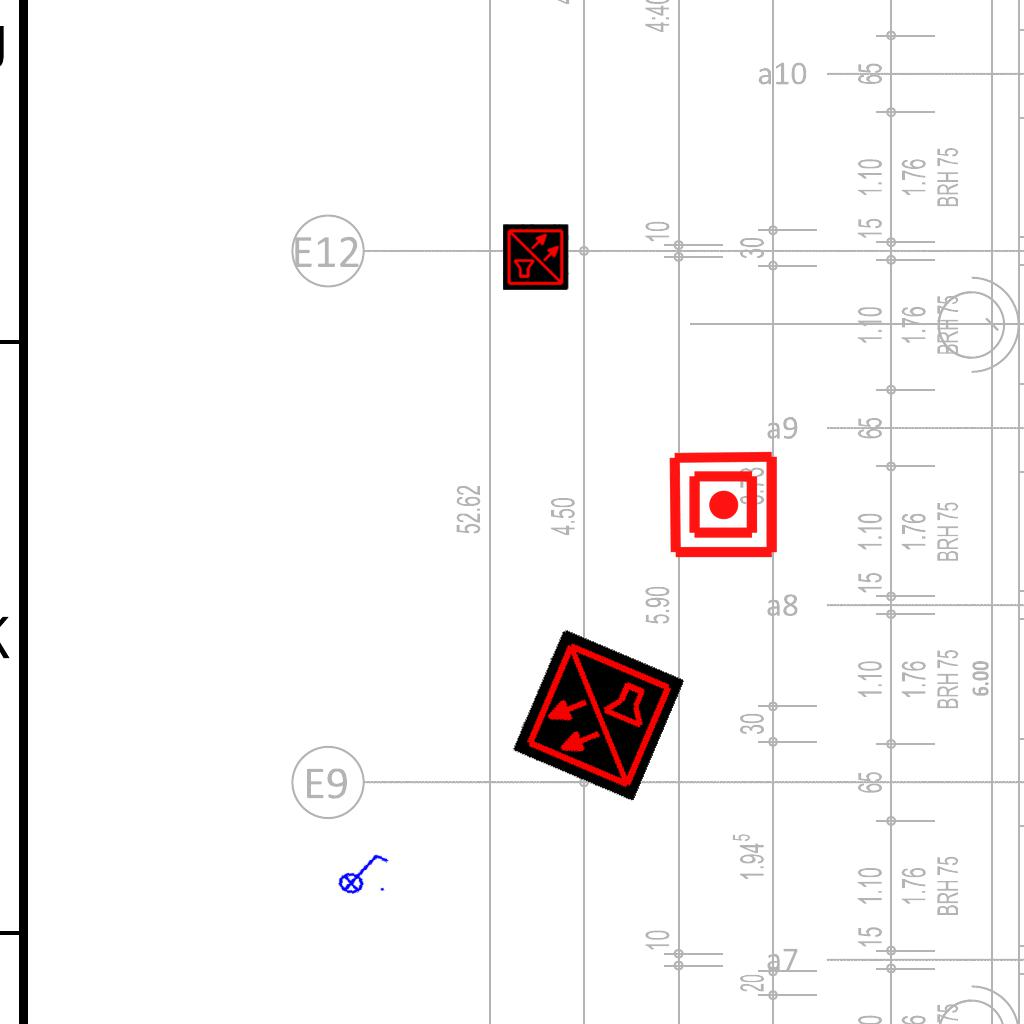Ausschalter_beleuchtet: (329, 843, 395, 901)
NAM-Nichtautomatischer_Melder: (667, 448, 780, 561)
OKW_Multisensormelder_(Kombination_optischer_Rauch-Kahlenmonoxid_Waerme-Melder): (511, 628, 685, 802), (503, 224, 569, 290)
